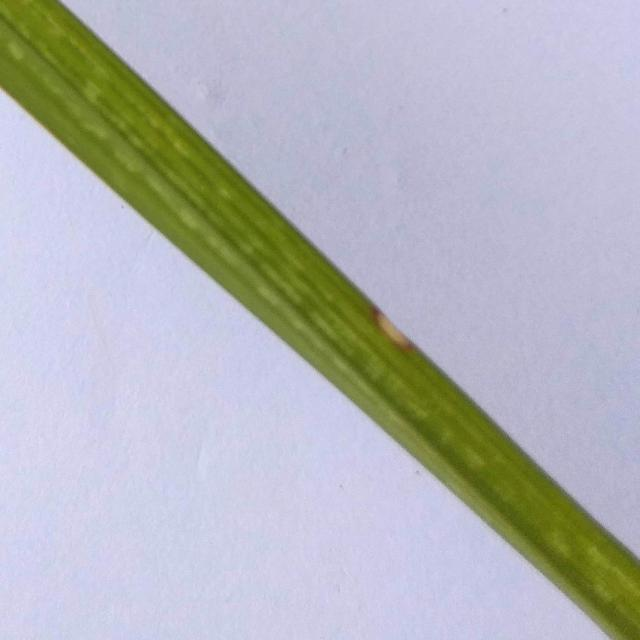Blast: (376, 315, 414, 354)
